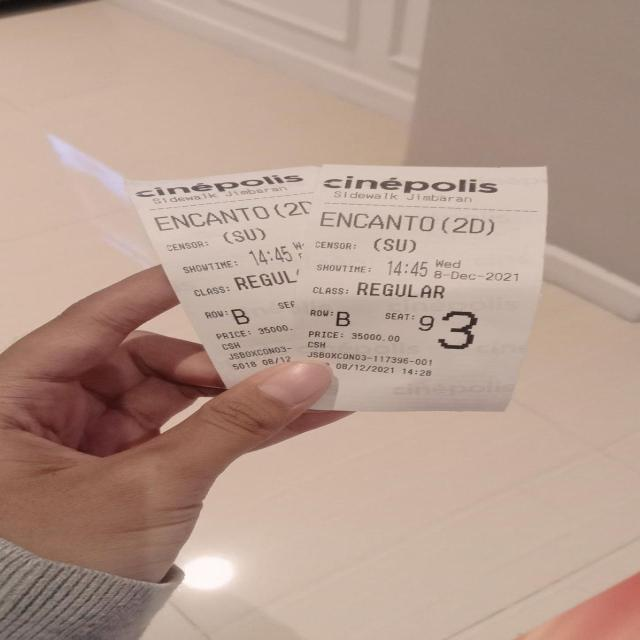date: (381, 259, 527, 286)
store: (323, 173, 514, 206)
total: (306, 330, 413, 346)
